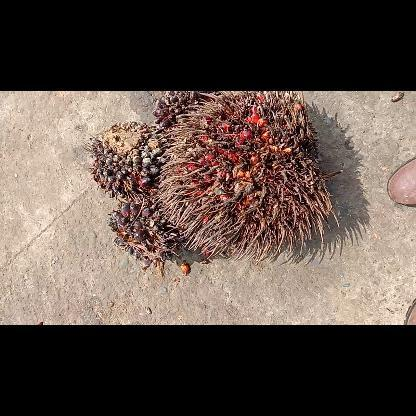TBS abnormal: (88, 119, 174, 198), (105, 195, 183, 267), (150, 92, 220, 134)
Terlalu masak: (152, 91, 346, 265)
